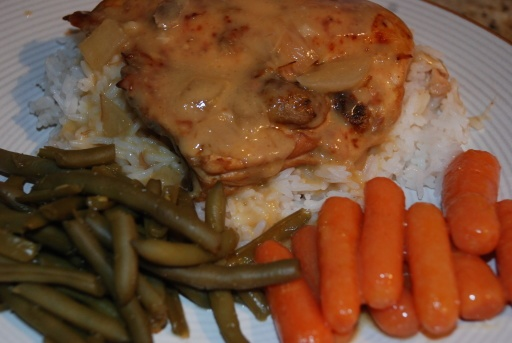background: (0, 0, 410, 184)
